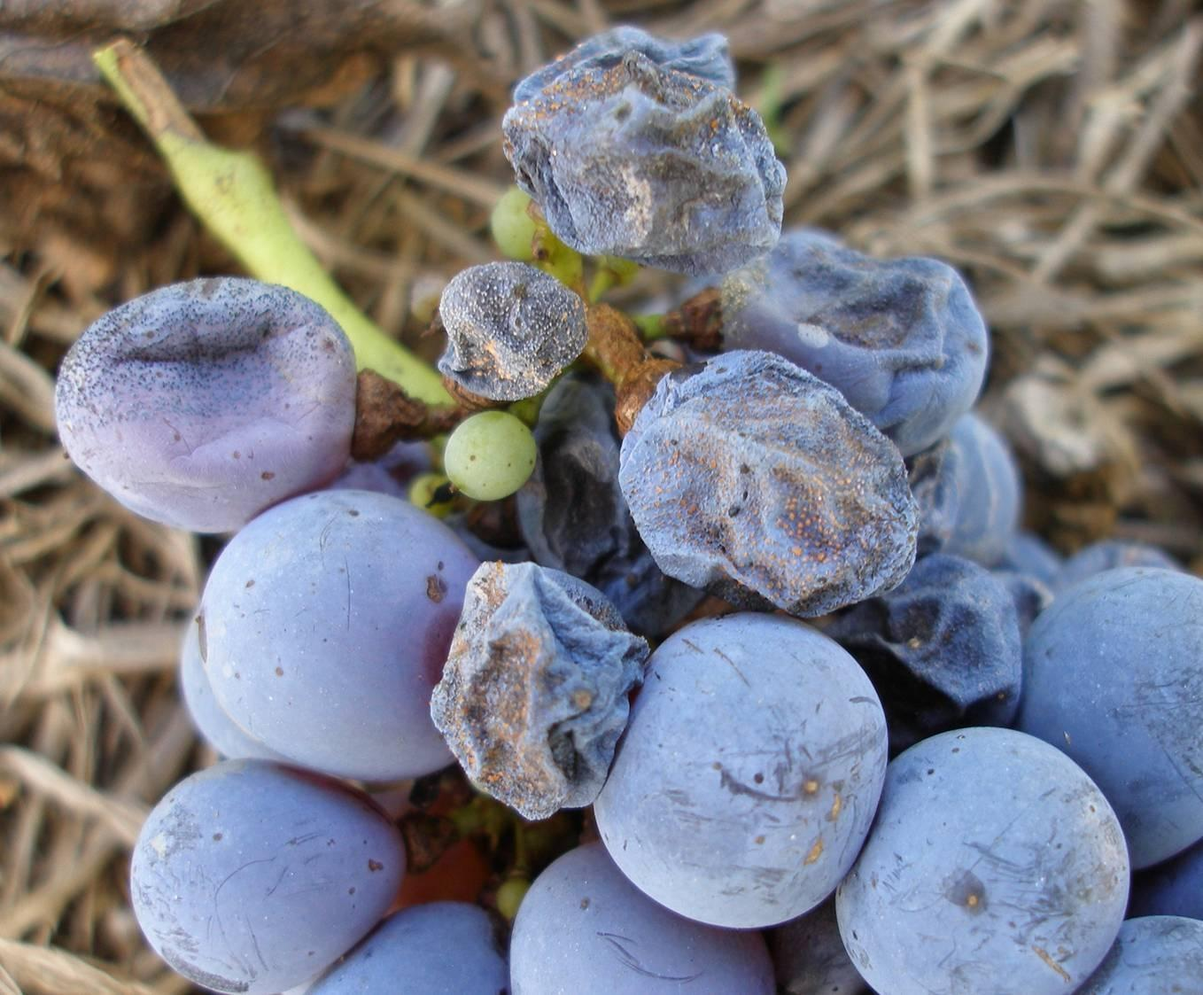Grape Rotten: (54, 25, 1200, 993)
